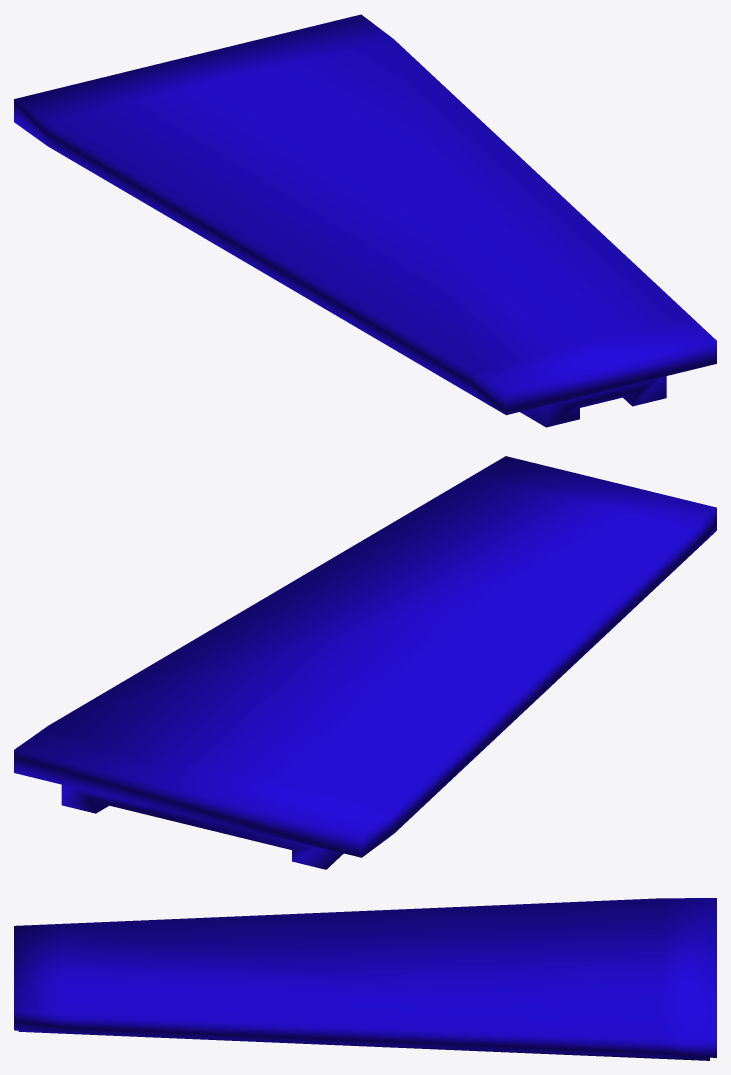
Rendered from SM_Xylophone01.FBX.
3 renders of one model, top to bottom at view 1: azimuth 30°, elevation 25°; view 2: azimuth 150°, elevation 25°; view 3: azimuth 270°, elevation 25°, orthographic. The views are drawn at different scales.
Visible parts, largest first — view 1: SM_Xylophone01a; view 2: SM_Xylophone01a; view 3: SM_Xylophone01a.
Boxes of the visible parts, x1=… form: SM_Xylophone01a: x1=14, y1=14, x2=716, y2=427; SM_Xylophone01a: x1=14, y1=456, x2=716, y2=869; SM_Xylophone01a: x1=14, y1=898, x2=716, y2=1060.
Bounding box in the file's own units: 19.99 × 3.94 × 42.2.
